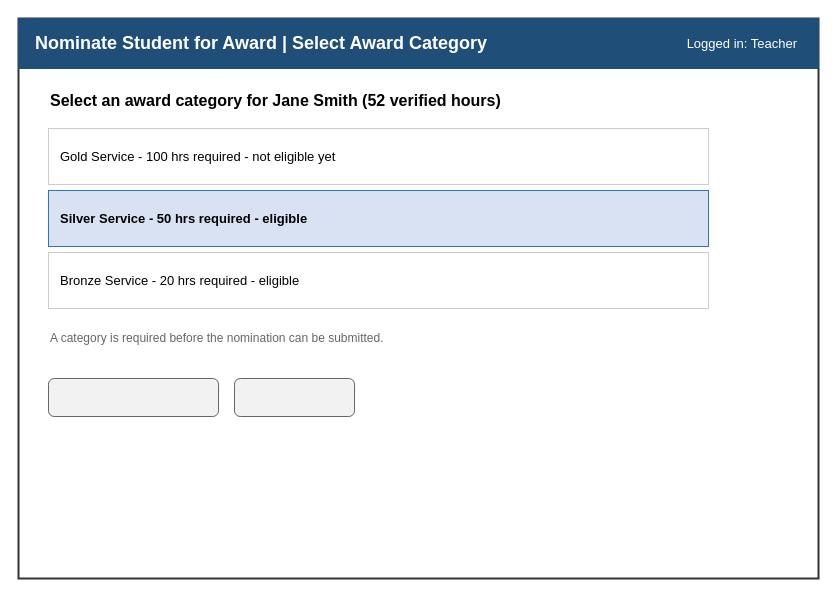
Image size: 836x596. Some labels were removed from this diagram. The centre of each missing label's shape, as x and y in pixels:
"Cancel" goes at point 294,397.
"Confirm Category" goes at point 133,397.
